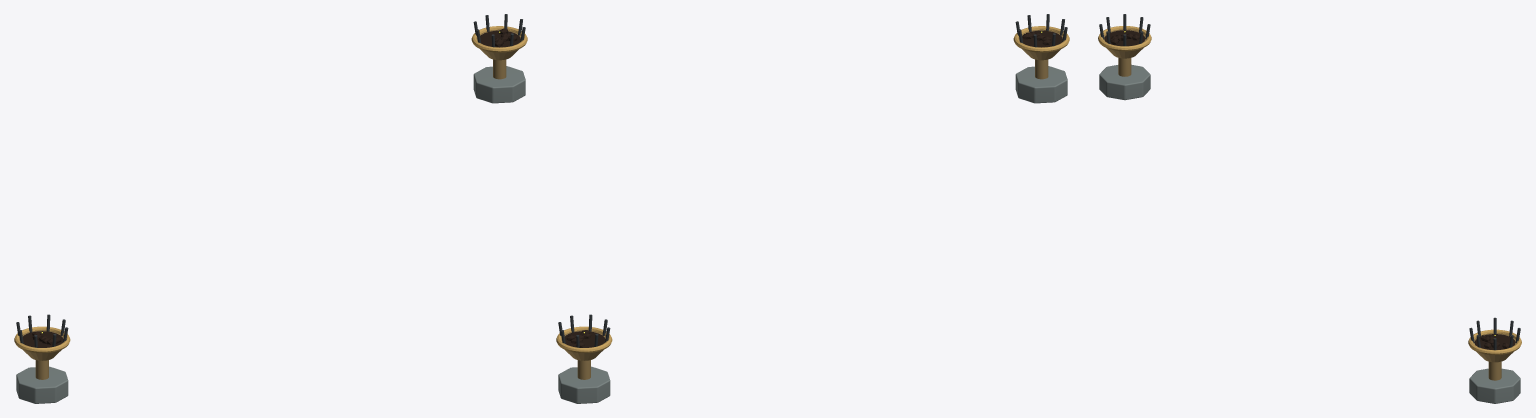
Rendered from brazier-assembly-v1.glb.
3 renders of one model, left to right at view 1: azimuth 30°, elevation 25°; view 2: azimuth 210°, elevation 25°; view 3: azimuth 270°, elevation 25°, orthographic. The views are drawn at different scales.
Parts seen in each view (by area): view 1: Brazier stone plinth.001, Brazier stone plinth, Brazier upper lip.001, Brazier upper lip; view 2: Brazier stone plinth, Brazier stone plinth.001, Brazier upper lip, Brazier upper lip.001; view 3: Brazier stone plinth, Brazier stone plinth.001, Brazier upper lip, Brazier upper lip.001.
Boxes of the visible parts, x1,y1,x2,y2 form: Brazier stone plinth.001: (473,66,525,103); Brazier stone plinth: (16,366,68,403); Brazier upper lip.001: (471,26,527,52); Brazier upper lip: (14,326,70,352); Brazier stone plinth: (1015,66,1067,103); Brazier stone plinth.001: (558,366,610,403); Brazier upper lip: (1013,26,1069,52); Brazier upper lip.001: (556,326,612,352); Brazier stone plinth: (1099,64,1150,100); Brazier stone plinth.001: (1469,368,1520,403); Brazier upper lip: (1098,26,1151,51); Brazier upper lip.001: (1468,329,1521,354).
Bounding box in the file's own units: 17.84 × 1.66 × 9.79.
